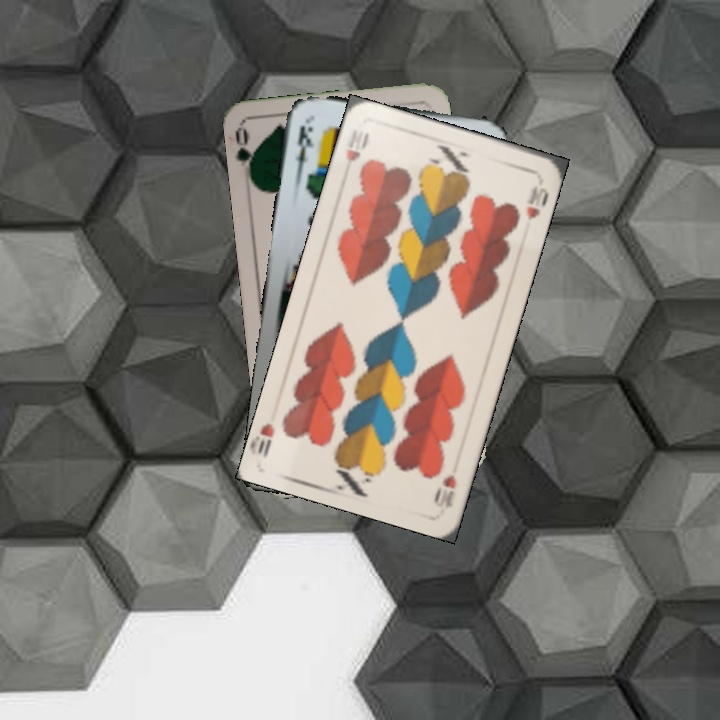EK: (291, 117, 316, 176)
GO: (231, 125, 259, 184)
H10: (338, 125, 372, 181), (430, 471, 460, 513)
